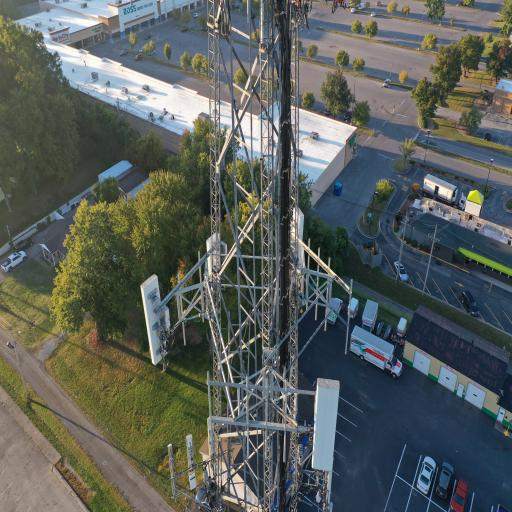supporting_tower: (141, 0, 353, 512)
